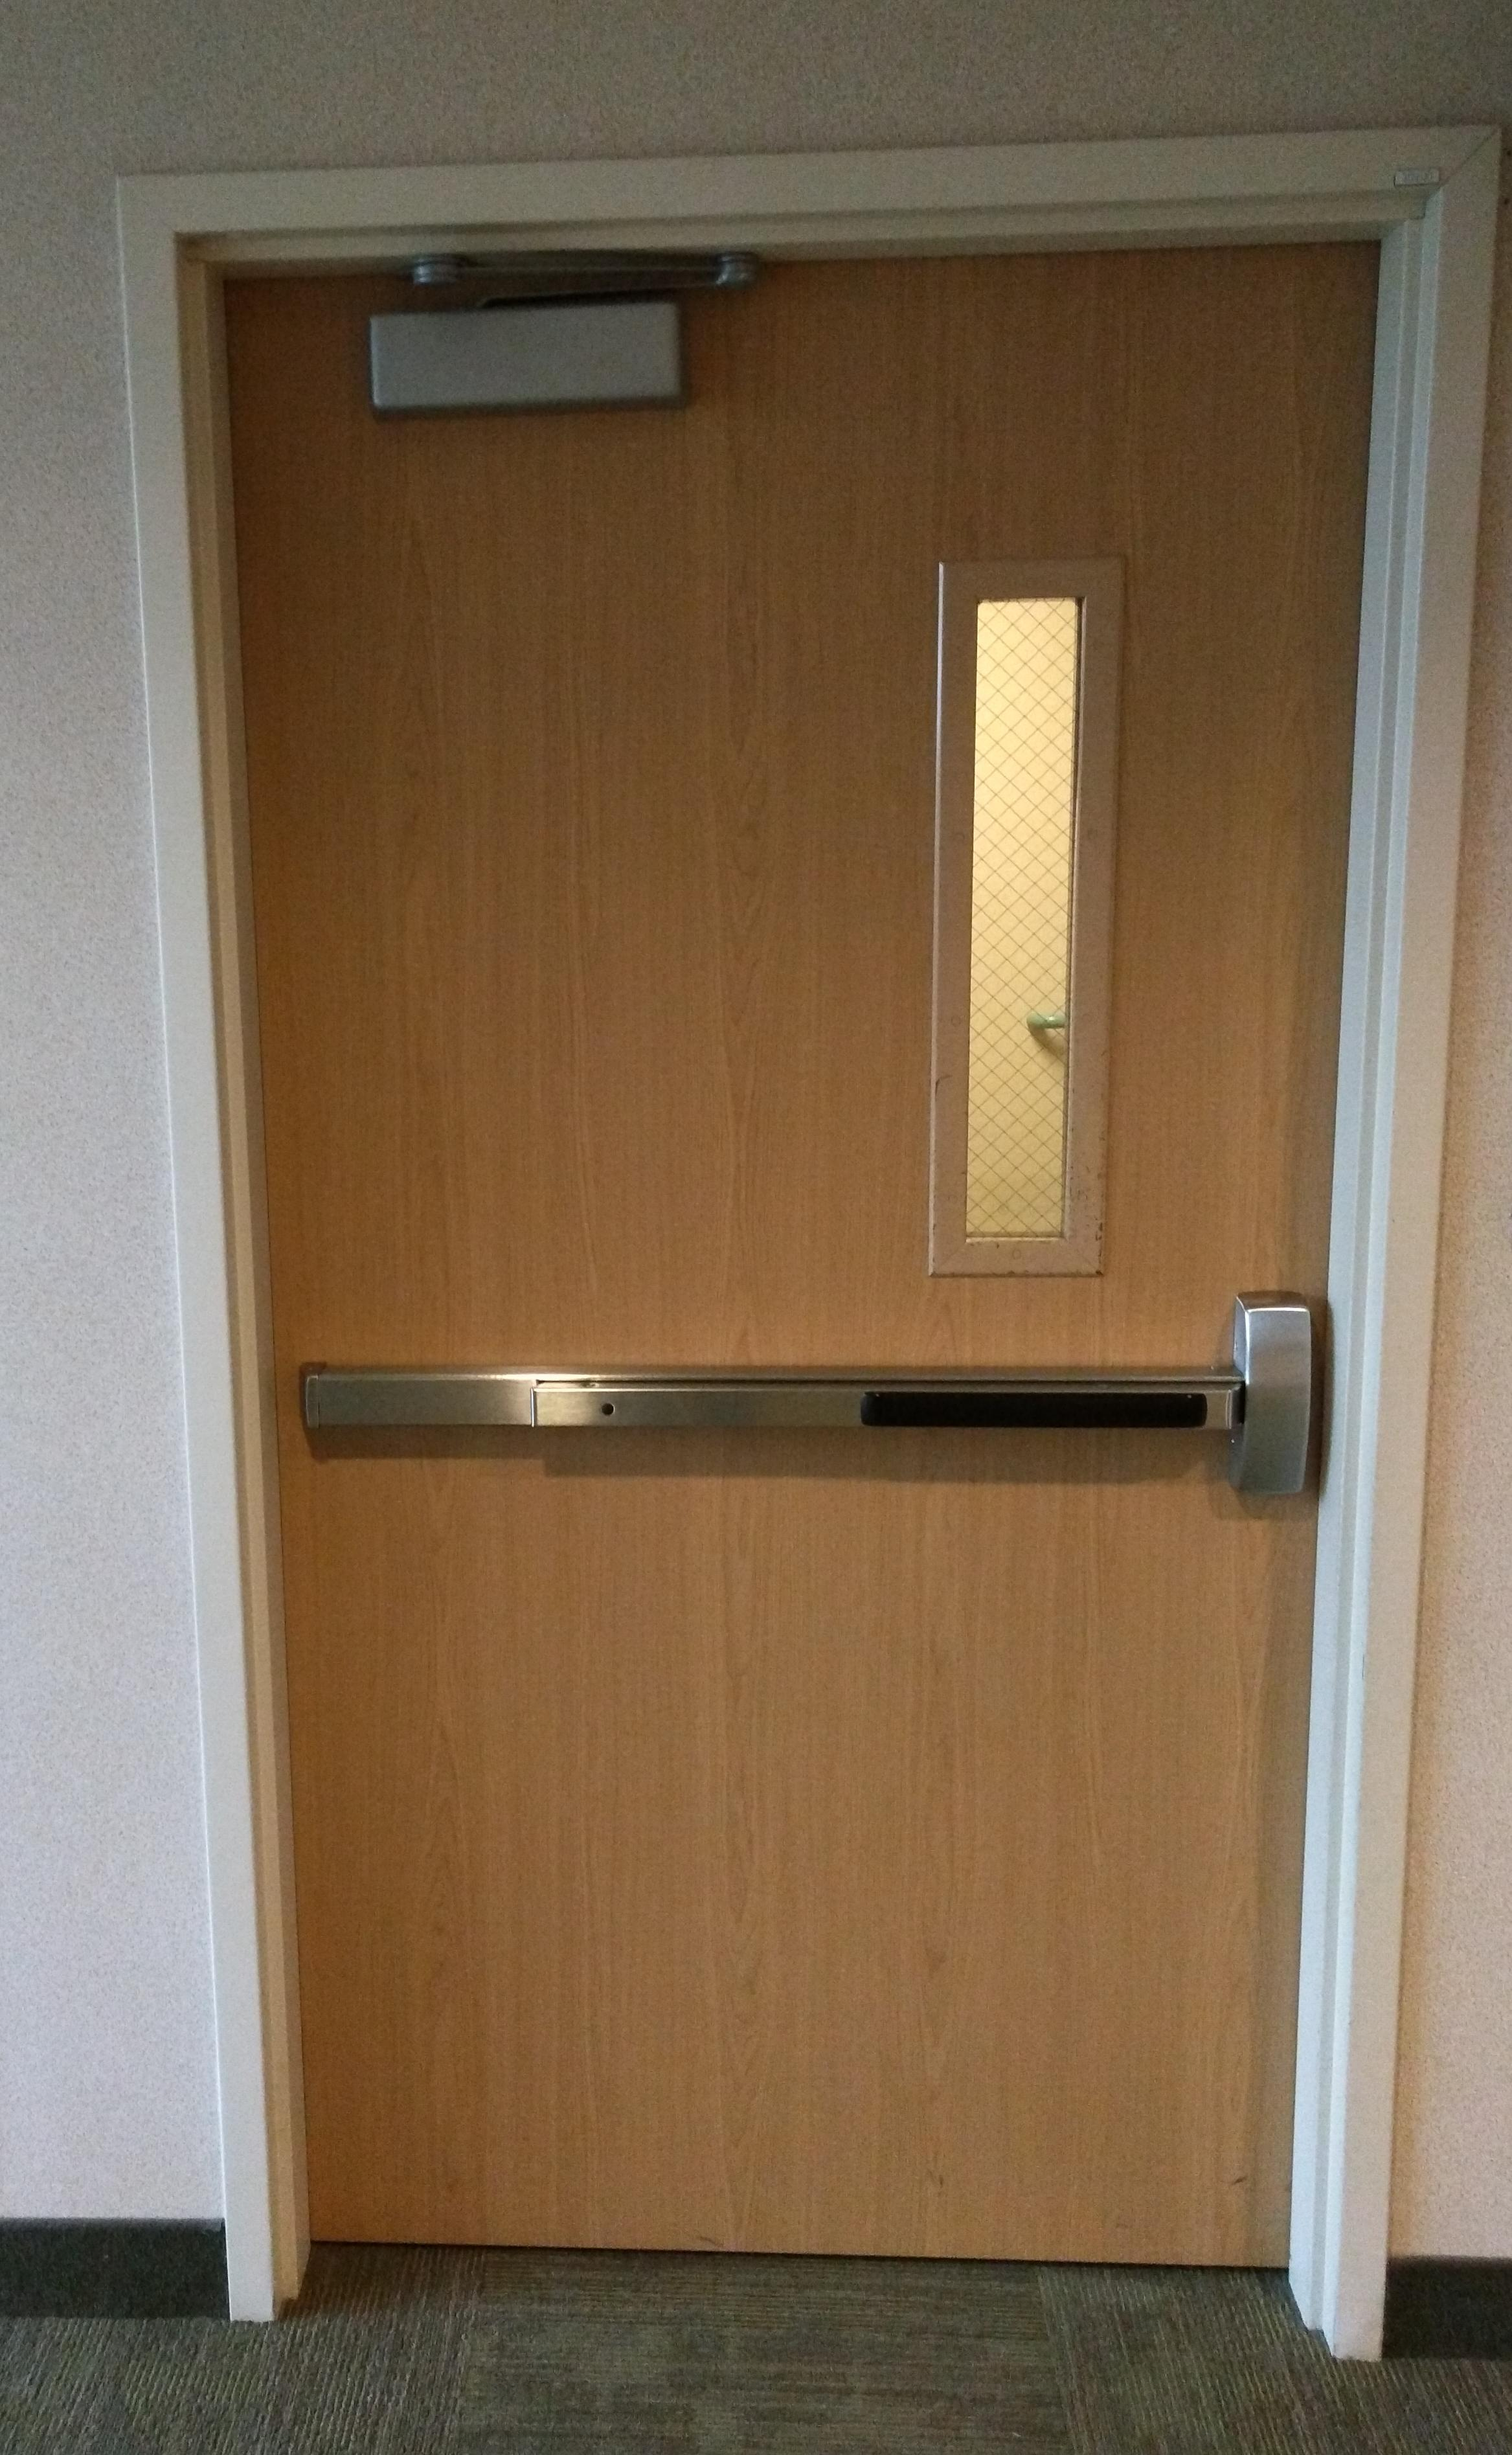door: (116, 123, 1498, 2360)
